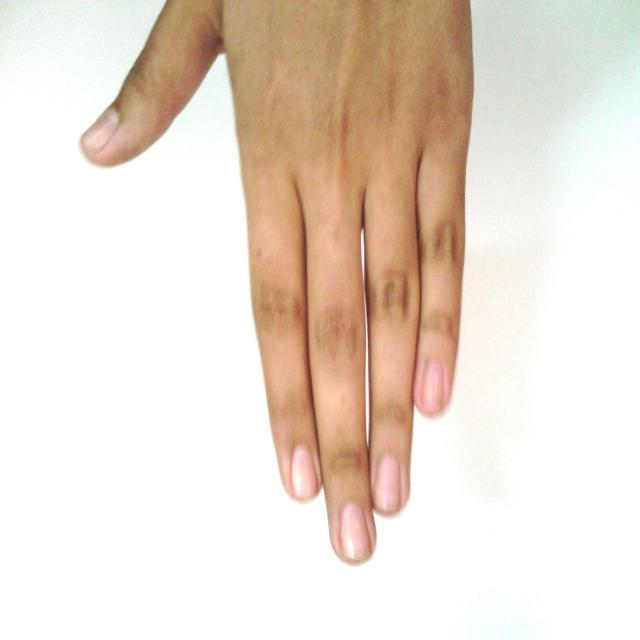Fingernail: (339, 503, 371, 561), (81, 109, 118, 151), (375, 454, 401, 511), (292, 446, 317, 500), (420, 362, 445, 412)
